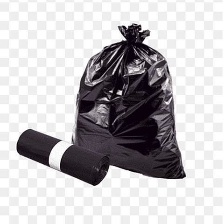plastic_bag: (67, 18, 189, 186), (12, 123, 114, 187)
